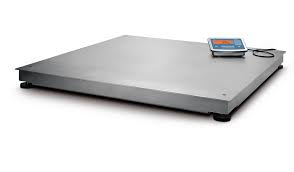Industrial Scale: (13, 34, 287, 123)
